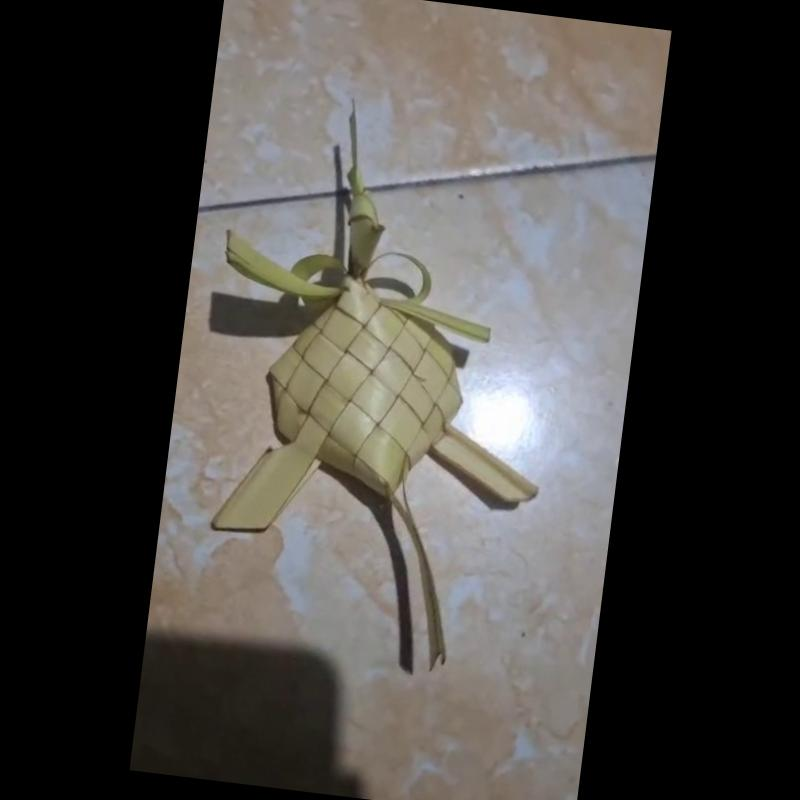Tipat Dampulan: (193, 86, 542, 677)
